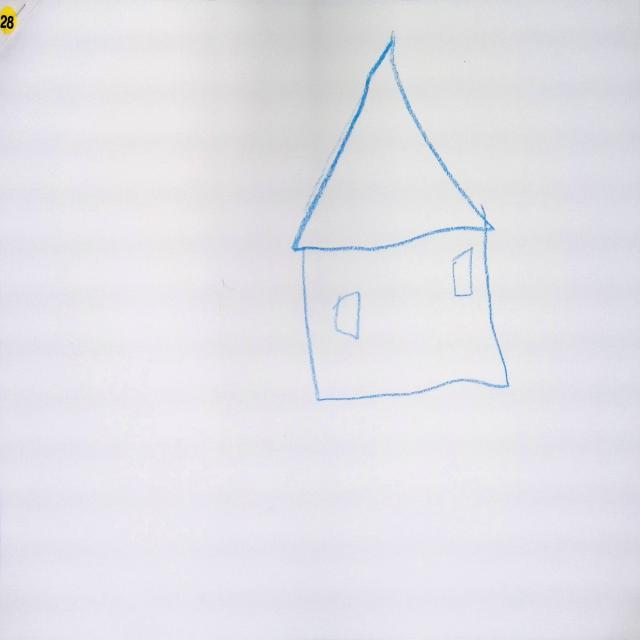house: (293, 35, 509, 400)
roof: (289, 36, 493, 255)
wall: (299, 228, 510, 400)
window: (334, 292, 361, 340), (454, 248, 474, 296)
